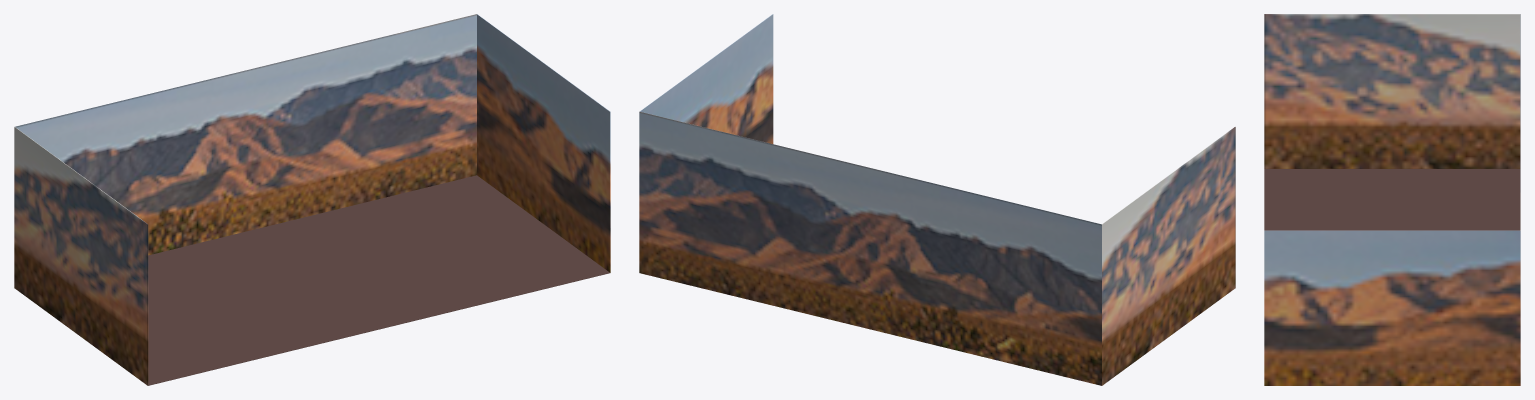
File: M_Terrarium.glb
The picture shows the model from 3 angles, left to right: view 1: azimuth 30°, elevation 25°; view 2: azimuth 150°, elevation 25°; view 3: azimuth 270°, elevation 25°; orthographic projection. The views are drawn at different scales.
Visible parts, largest first — view 1: Terrarium; view 2: Terrarium; view 3: Terrarium.
Part boxes in pixels (box(x1,y1,x2,y2)): Terrarium: box(14, 14, 610, 385); Terrarium: box(639, 14, 1235, 385); Terrarium: box(1264, 14, 1520, 385).
Bounding box in the file's own units: 9 × 3 × 4.5.
1 material, 1 textured.
